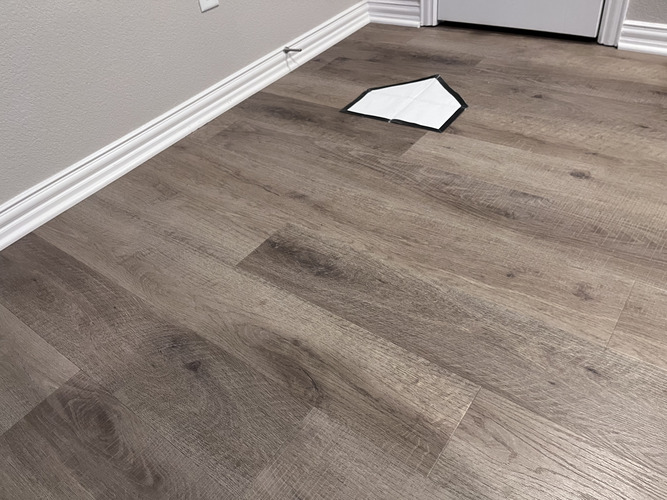homeplate: (338, 76, 467, 133)
